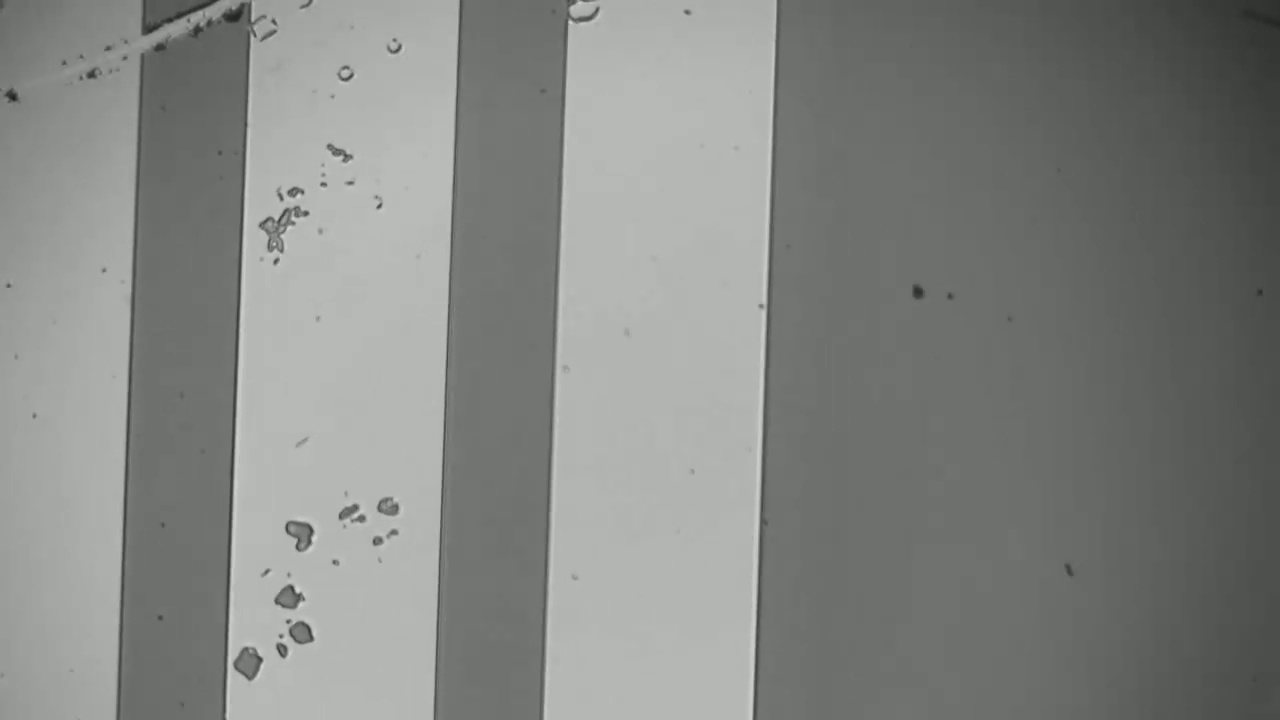Short_circuit: (97, 1, 295, 101)
